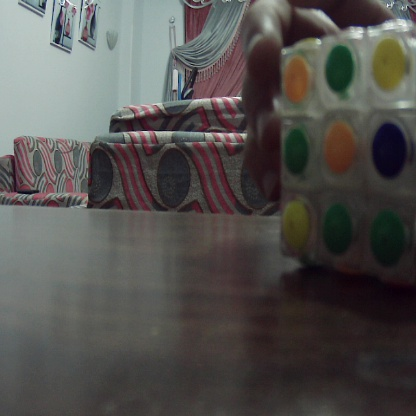Rubix Cube: (273, 27, 415, 283)
